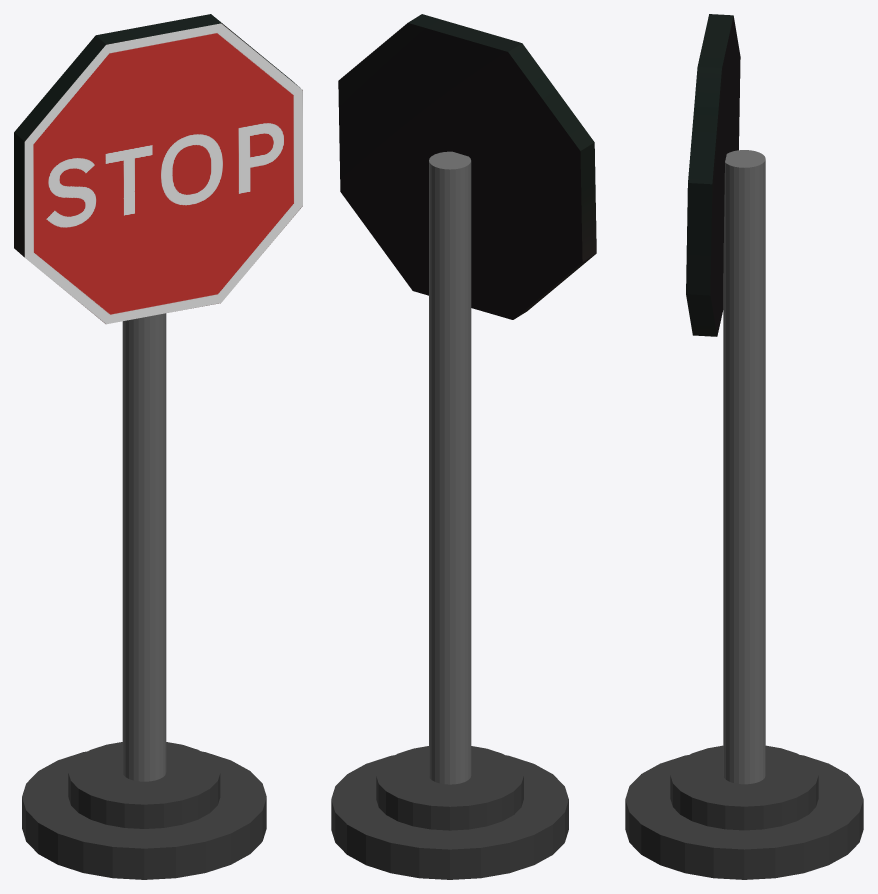
The model's file is StopSign.fbx.
3 views of the same model, side by side, from view 1: azimuth 30°, elevation 25°; view 2: azimuth 150°, elevation 25°; view 3: azimuth 270°, elevation 25° (orthographic). The views are drawn at different scales.
Visible parts, largest first — view 1: Circle; view 2: Circle; view 3: Circle.
Boxes of the visible parts, box(x1,y1,x2,y2) form: Circle: box(14, 14, 302, 879); Circle: box(331, 14, 596, 879); Circle: box(625, 14, 863, 879).
Bounding box in the file's own units: 252 × 731 × 200.
2 materials, 2 textured.
